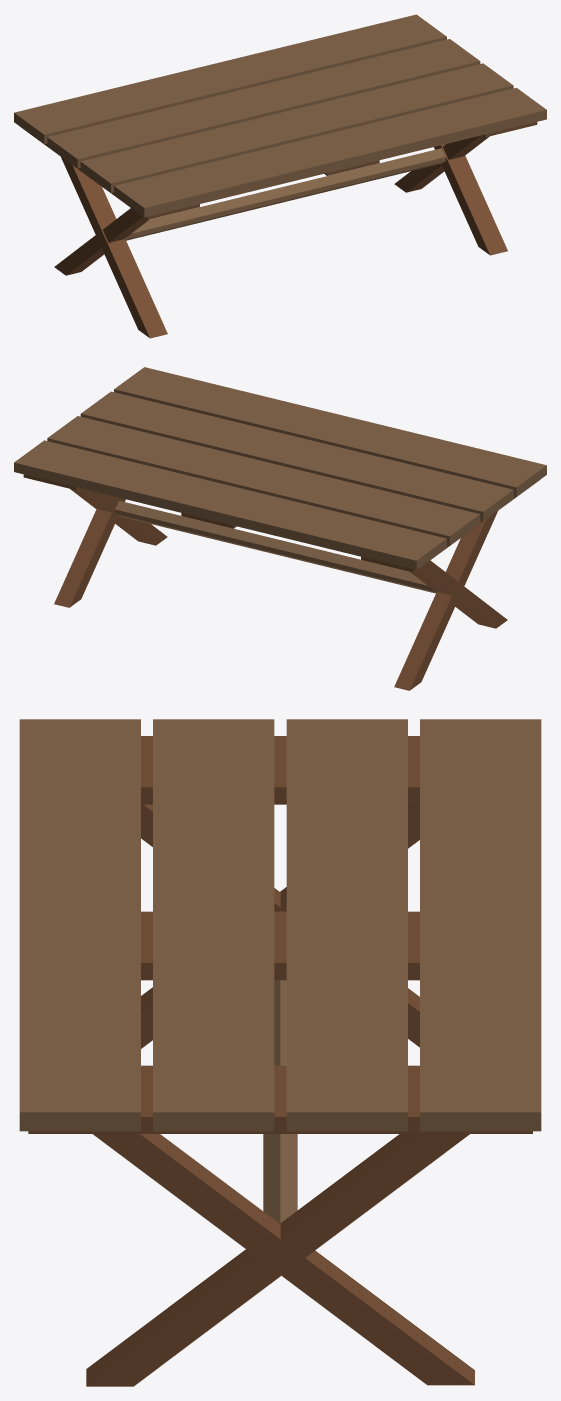
Rendered from lowpoly_wood_table.fbx.
3 views of the same model, one above another, from view 1: azimuth 30°, elevation 25°; view 2: azimuth 150°, elevation 25°; view 3: azimuth 270°, elevation 25° (orthographic). The views are drawn at different scales.
Parts seen in each view (by area): view 1: Cube.006; view 2: Cube.006; view 3: Cube.006.
Boxes of the visible parts, bbox=[...] form: Cube.006: bbox=[14, 14, 546, 338]; Cube.006: bbox=[14, 367, 546, 690]; Cube.006: bbox=[19, 719, 541, 1386].
Bounding box in the file's own units: 249 × 87.4 × 140.
